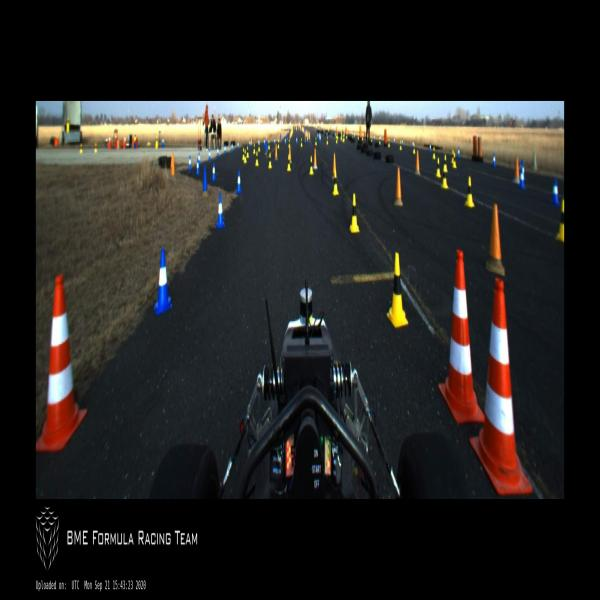blue_cone: (154, 249, 172, 314), (216, 194, 225, 229), (551, 178, 560, 205), (202, 165, 209, 196), (236, 169, 242, 194), (519, 167, 525, 189), (195, 158, 200, 176), (212, 162, 216, 181), (188, 154, 192, 171), (492, 152, 496, 169), (230, 141, 234, 153), (208, 149, 211, 162), (216, 146, 219, 158), (457, 147, 460, 159), (248, 138, 251, 147), (198, 152, 200, 165), (237, 141, 239, 151), (224, 145, 226, 154)
large_orange_cone: (470, 277, 532, 494), (36, 274, 87, 451), (438, 250, 484, 422)
orange_cone: (485, 204, 505, 274), (394, 166, 403, 206), (512, 157, 520, 183), (414, 150, 421, 176), (332, 151, 338, 181), (170, 153, 176, 178), (313, 147, 318, 170), (274, 143, 278, 161)
yellow_cone: (386, 252, 409, 326), (349, 194, 360, 233), (464, 176, 475, 208), (556, 200, 564, 241), (331, 168, 339, 196), (441, 164, 449, 189), (435, 157, 441, 178), (309, 155, 314, 175), (443, 153, 448, 172), (452, 152, 457, 170), (268, 152, 272, 169), (286, 154, 290, 171), (254, 150, 258, 166), (432, 146, 436, 159), (246, 146, 250, 158), (451, 148, 454, 164), (252, 143, 256, 154), (399, 140, 402, 150), (244, 149, 246, 163), (242, 147, 244, 160), (413, 143, 415, 154), (315, 137, 317, 146), (326, 136, 328, 145), (388, 139, 390, 147), (258, 143, 260, 151), (268, 140, 270, 148), (277, 140, 279, 148), (288, 140, 290, 148), (300, 139, 302, 147)
